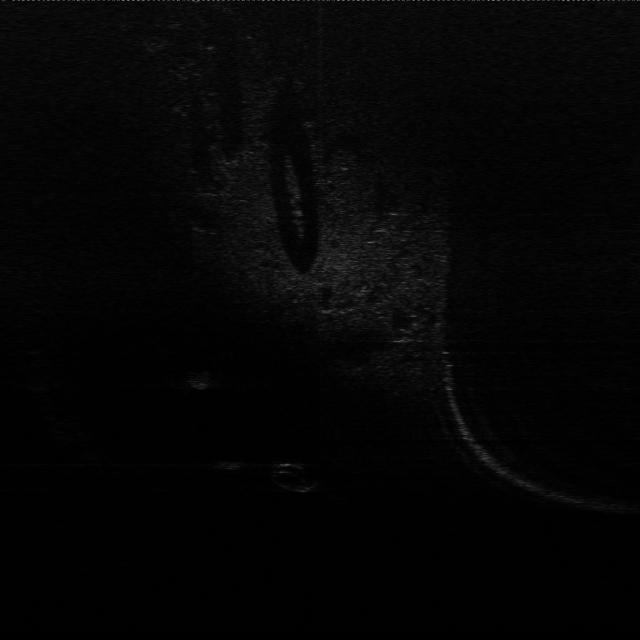cube: (213, 454, 247, 475)
square cage: (184, 368, 218, 393)
tyre: (268, 462, 322, 496)
